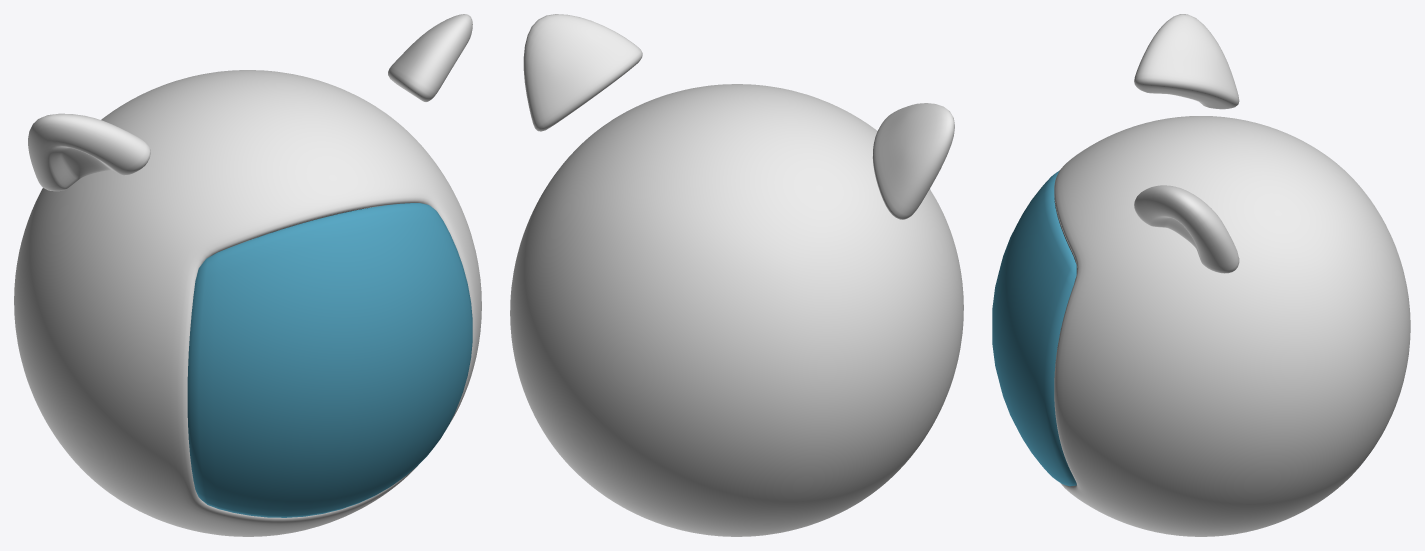
The model's file is PlayerCharacterBall.fbx.
3 renders of one model, left to right at view 1: azimuth 30°, elevation 25°; view 2: azimuth 150°, elevation 25°; view 3: azimuth 270°, elevation 25°, orthographic. The views are drawn at different scales.
Visible parts, largest first — view 1: CatBall_Ball, CatBall_Hologram, CatBall_Ears; view 2: CatBall_Ball, CatBall_Ears; view 3: CatBall_Ball, CatBall_Hologram, CatBall_Ears.
Part boxes in pixels (bbox=[...]): CatBall_Ball: bbox=[14, 70, 481, 536]; CatBall_Hologram: bbox=[187, 203, 472, 517]; CatBall_Ears: bbox=[28, 14, 472, 191]; CatBall_Ball: bbox=[510, 84, 963, 536]; CatBall_Ears: bbox=[523, 14, 954, 219]; CatBall_Ball: bbox=[1054, 116, 1410, 536]; CatBall_Hologram: bbox=[992, 170, 1076, 486]; CatBall_Ears: bbox=[1134, 14, 1239, 273].
Bounding box in the file's own units: 2.14 × 2.14 × 1.97.
